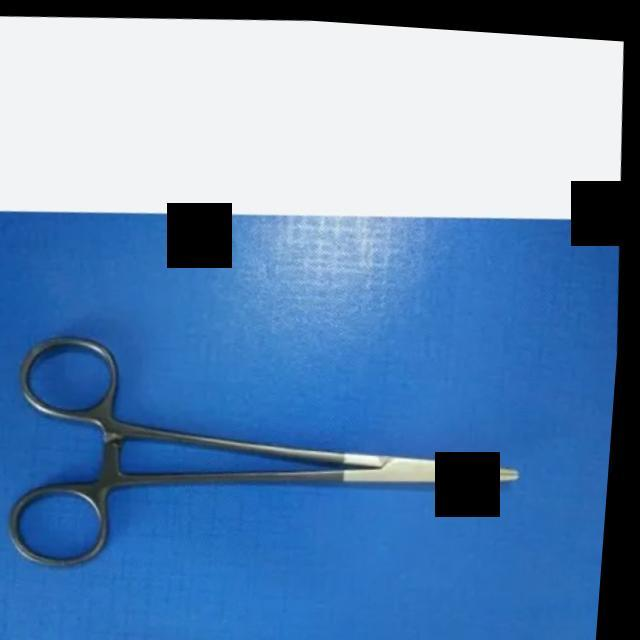Needle Holder: (0, 304, 567, 601)
